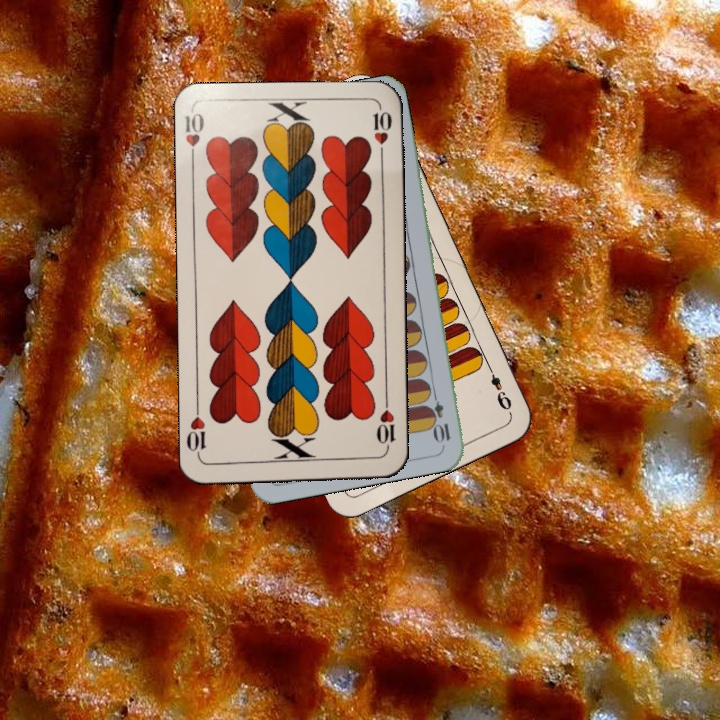E10: (426, 386, 454, 445)
E9: (483, 360, 515, 416)
H10: (372, 395, 398, 454), (181, 108, 207, 167)
